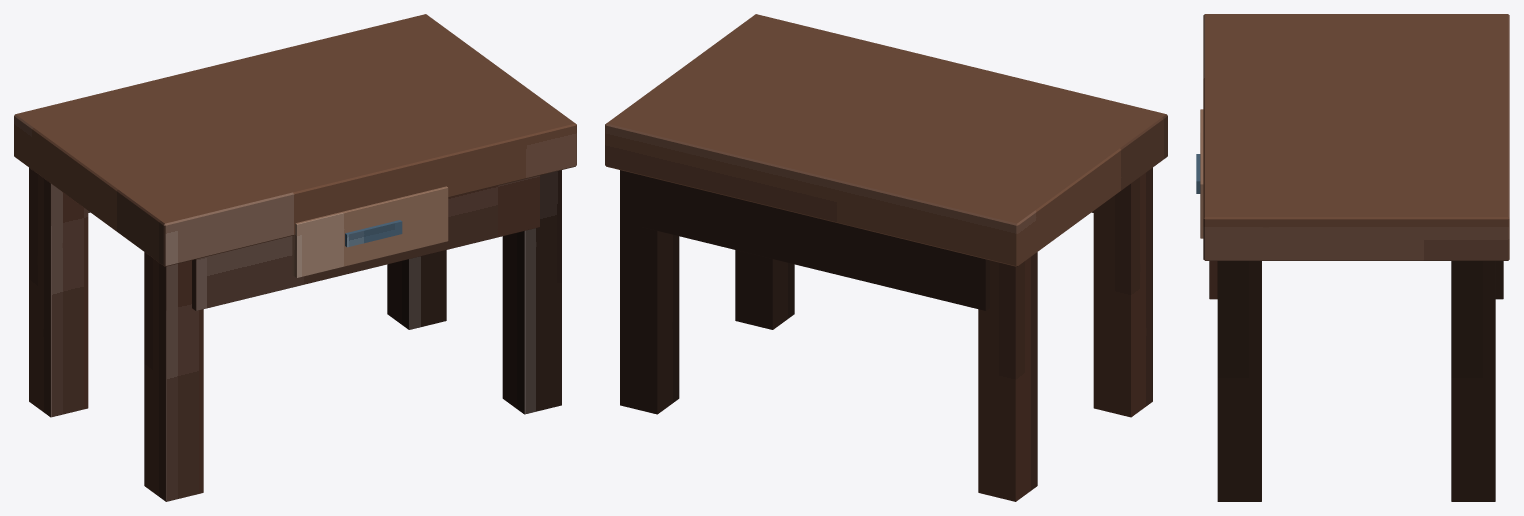
Rendered from wooden_table_walnut.glb.
The picture shows the model from 3 angles, left to right: view 1: azimuth 30°, elevation 25°; view 2: azimuth 150°, elevation 25°; view 3: azimuth 270°, elevation 25°; orthographic projection.
Visible parts, largest first — view 1: TableTop, TableLeg_1, TableLeg_3, TableLeg_2, FrontApron, TableDrawer, TableLeg_4, DrawerHandle; view 2: TableTop, BackApron, TableLeg_3, TableLeg_1, TableLeg_4, TableLeg_2; view 3: TableTop, TableLeg_2, TableLeg_4, TableDrawer.
Part boxes in pixels (box(x1,y1,x2,y2)): TableTop: box(14, 14, 576, 266); TableLeg_1: box(144, 252, 203, 501); TableLeg_3: box(29, 167, 88, 417); TableLeg_2: box(502, 170, 561, 414); FrontApron: box(192, 175, 539, 310); TableDrawer: box(292, 186, 448, 277); TableLeg_4: box(387, 250, 446, 329); DrawerHandle: box(345, 220, 402, 247); TableTop: box(605, 14, 1167, 266); BackApron: box(642, 175, 989, 310); TableLeg_3: box(978, 252, 1037, 501); TableLeg_1: box(1093, 167, 1152, 417); TableLeg_4: box(620, 170, 679, 414); TableLeg_2: box(735, 250, 794, 329); TableTop: box(1203, 14, 1509, 260); TableLeg_2: box(1217, 261, 1261, 501); TableLeg_4: box(1451, 261, 1495, 501); TableDrawer: box(1200, 109, 1203, 238).
Bounding box in the file's own units: 1.2 × 0.79 × 0.778.
Materials: 1 (1 with a texture image).
